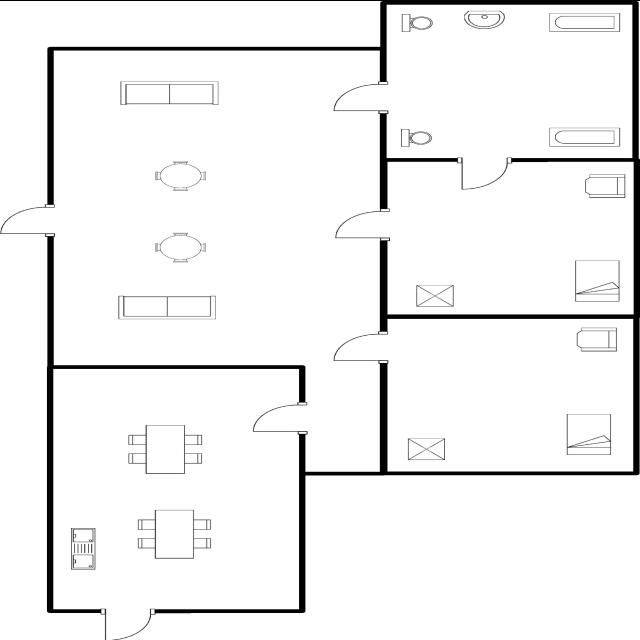armchair: (578, 170, 630, 202), (572, 324, 622, 354)
bed: (562, 410, 616, 458), (570, 256, 624, 304)
coffee_table: (402, 434, 450, 462), (412, 280, 458, 308)
dining_table: (124, 421, 208, 476), (132, 506, 216, 560)
large_sink: (396, 122, 439, 148), (395, 10, 437, 34)
large_sofa: (111, 292, 222, 322), (114, 78, 224, 106)
round_table: (150, 156, 210, 194), (150, 228, 212, 264)
small_sink: (460, 7, 508, 33)
tub: (543, 122, 625, 150), (546, 8, 624, 34)
twin_sink: (66, 520, 104, 572)
